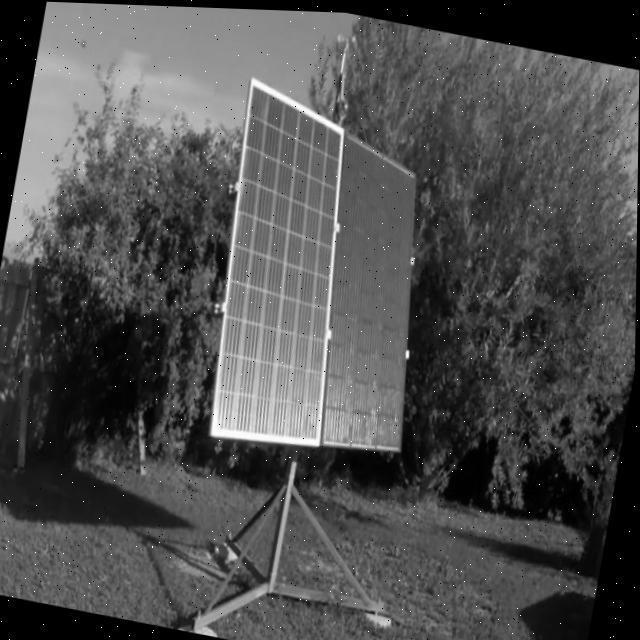Normal Solar Panel: (190, 76, 459, 472), (293, 130, 452, 458)
